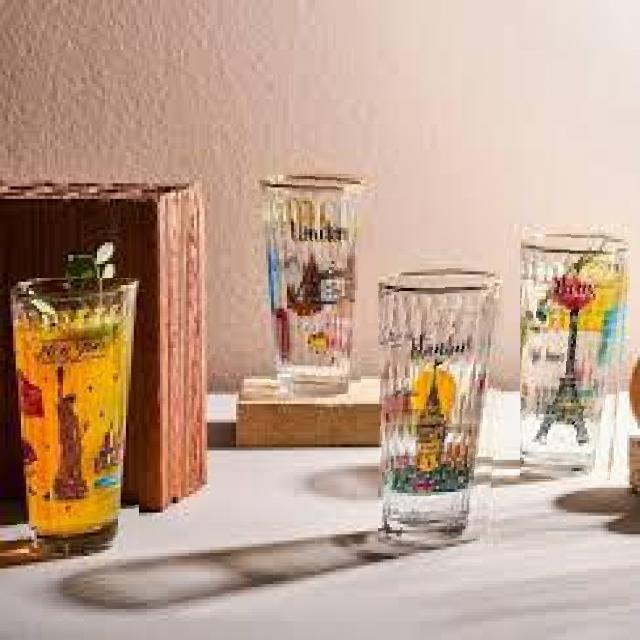Glass: (8, 278, 139, 552), (378, 268, 506, 542), (520, 230, 630, 480), (258, 170, 361, 394)
